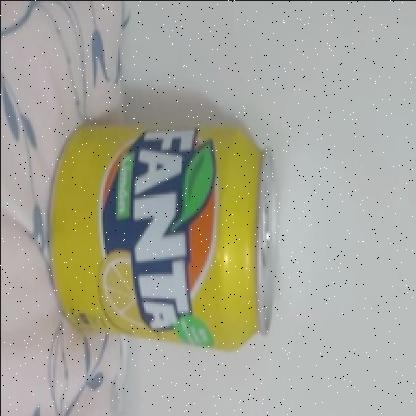Can: (44, 117, 278, 351)
